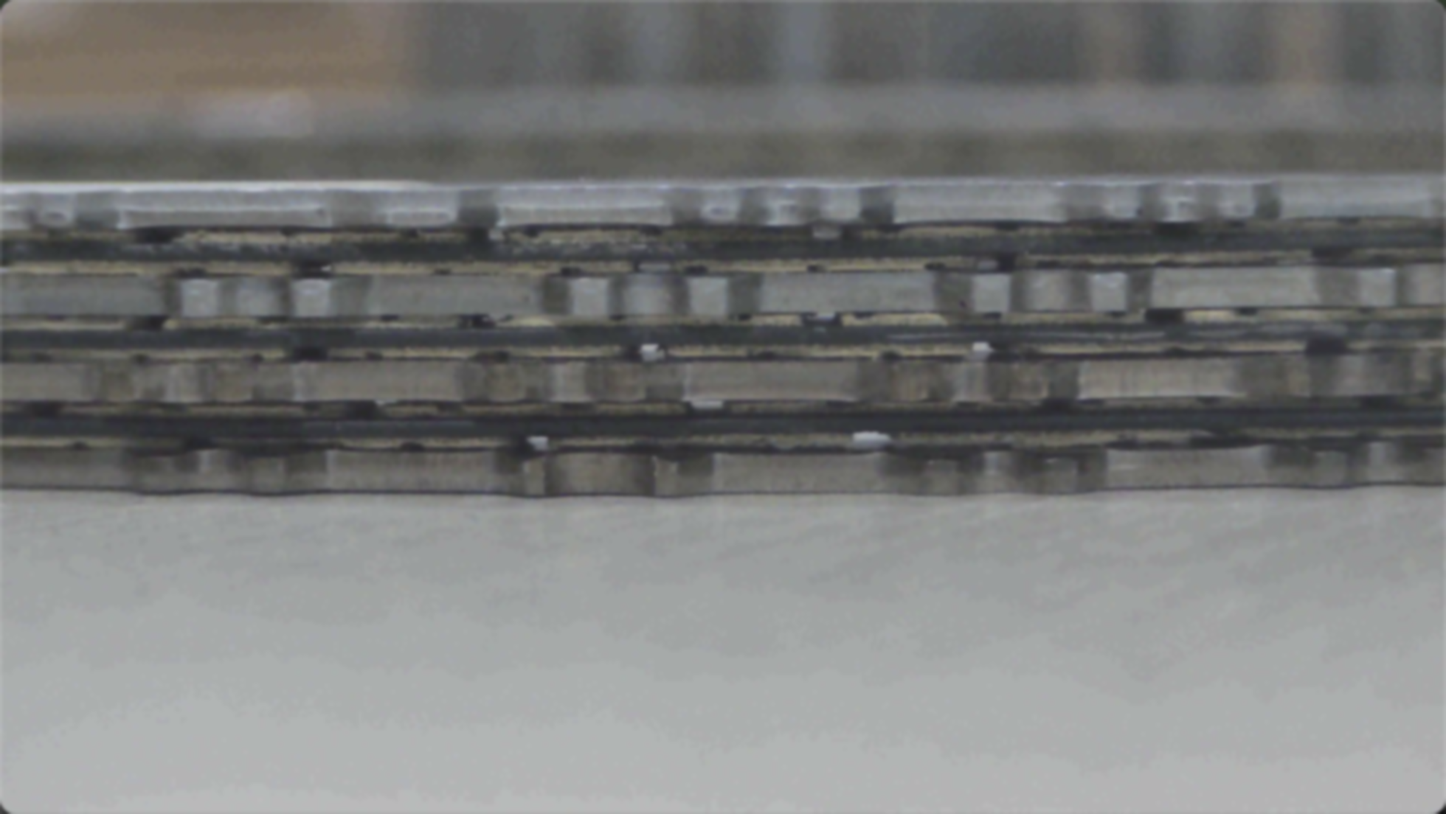Black metal plate: (0, 436, 1445, 495)
shiney metal plate: (132, 0, 1421, 652), (8, 203, 1407, 557), (0, 174, 1445, 231)
spacer: (0, 517, 1433, 618), (0, 407, 1445, 439), (0, 319, 1445, 350)
